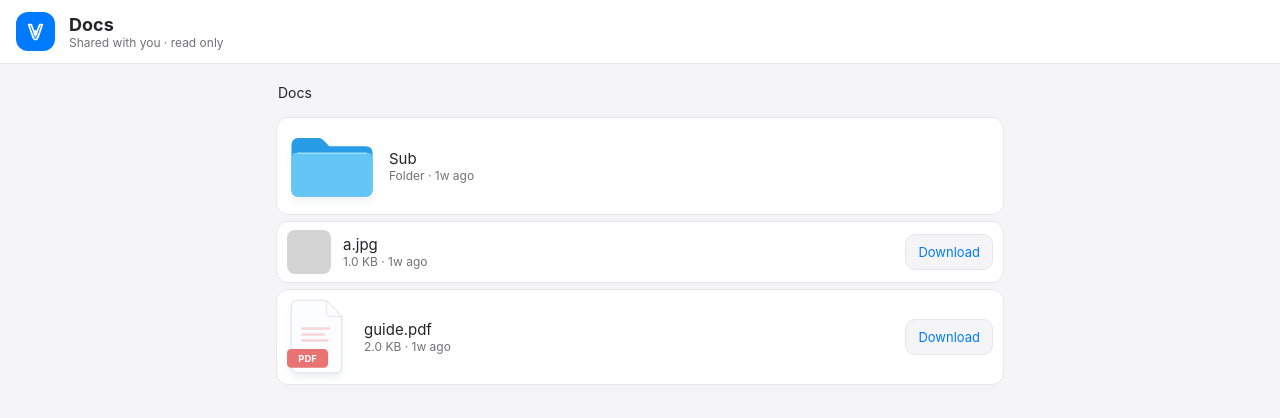
it: GuestShareView › keeps the current listing and shows a message when a subfolder 404s mid-browse
Click the button with class "guest-open" showing "Sub Folder · 1w ago" at (332, 166), box 287,126 -> 993,206
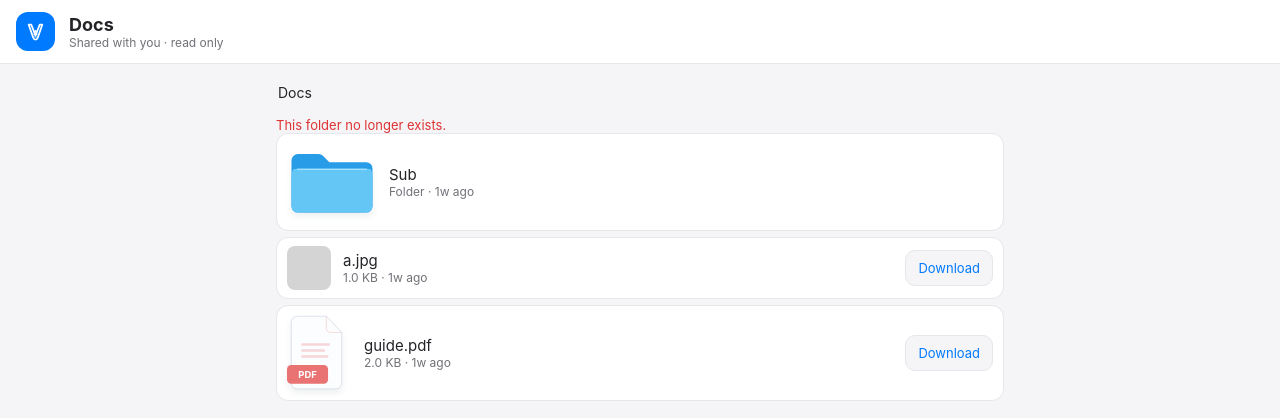
expect the number of list items with class "guest-row" is 3: met, box 276,133 -> 1004,231; 276,237 -> 1004,299; 276,305 -> 1004,401
expect the text "This folder no longer exists." is shown: met, box 276,117 -> 446,133
